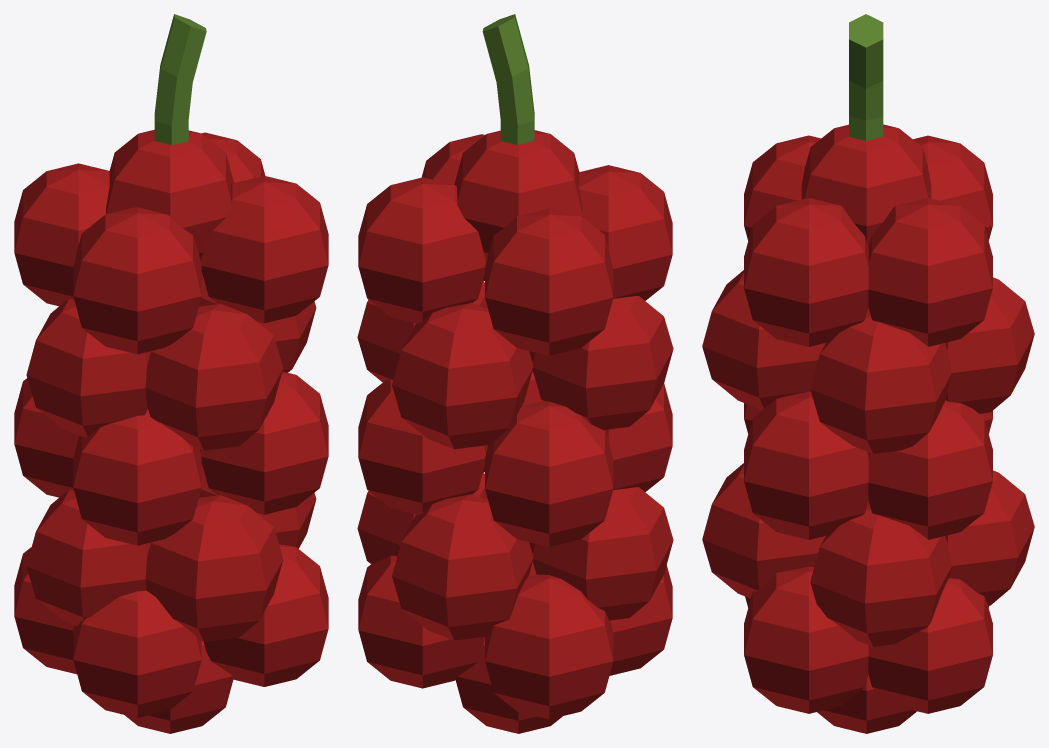
Rendered from RedMulberry.fbx.
The picture shows the model from 3 angles, left to right: view 1: azimuth 30°, elevation 25°; view 2: azimuth 150°, elevation 25°; view 3: azimuth 270°, elevation 25°; orthographic projection.
Parts seen in each view (by area): view 1: RedMulberry2; view 2: RedMulberry2; view 3: RedMulberry2.
Part boxes in pixels (left/top/right/bottom): RedMulberry2: left=14, top=14, right=328, bottom=733; RedMulberry2: left=357, top=14, right=673, bottom=733; RedMulberry2: left=702, top=14, right=1034, bottom=733.
Size of the model in its own units: 0.4096 by 0.9687 by 0.4082.
